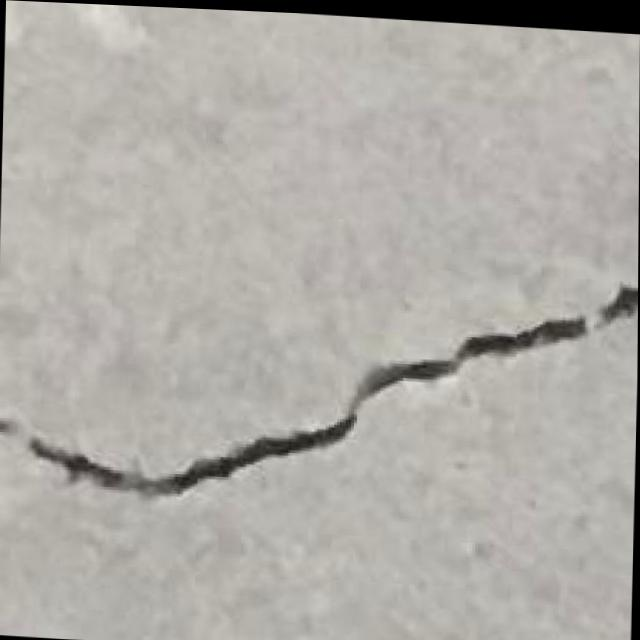Crack: (0, 231, 639, 532)
